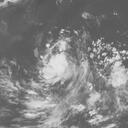cyclone: (37, 38, 86, 91)
